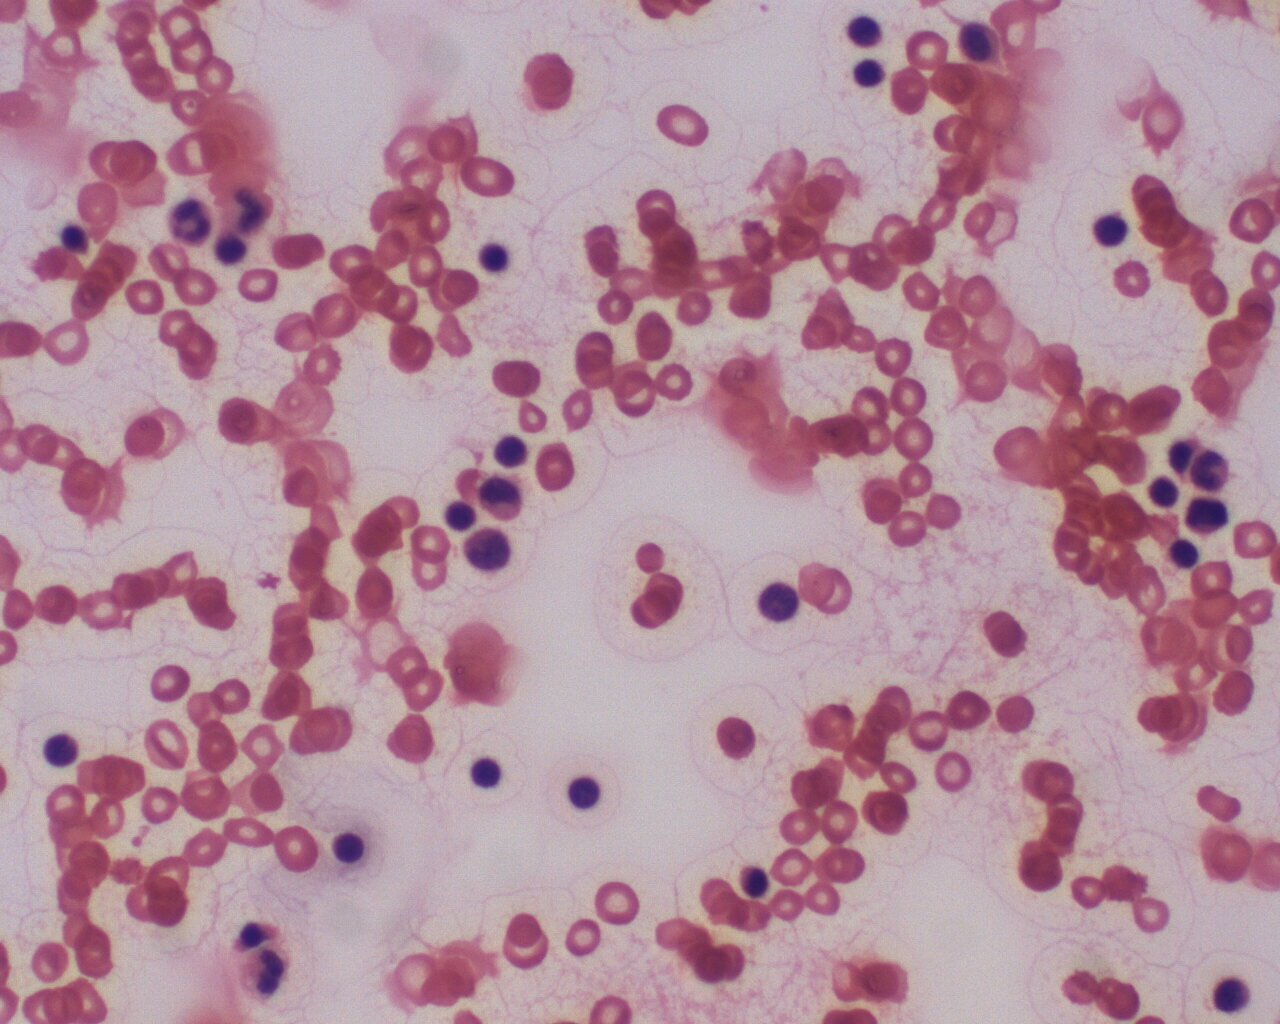lymph: (748, 575, 809, 631), (562, 758, 610, 821), (457, 745, 505, 802), (476, 231, 521, 280), (491, 425, 535, 472), (329, 829, 376, 870), (1089, 208, 1135, 250), (42, 727, 84, 772), (440, 498, 486, 536), (850, 55, 894, 92), (734, 861, 772, 903), (1166, 533, 1202, 571)
neutro: (163, 194, 217, 246)
